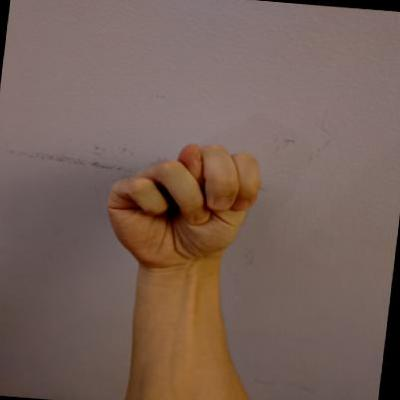hand: (96, 132, 270, 280)
